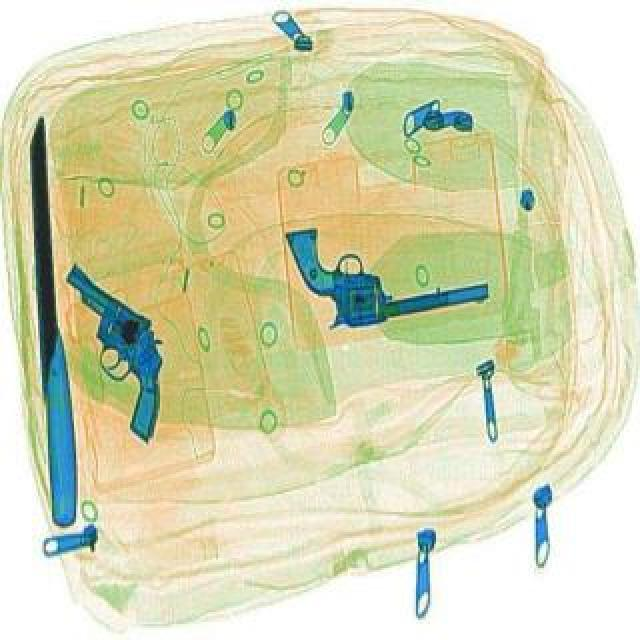gun: (8, 268, 218, 448), (288, 204, 494, 340)
knife: (20, 122, 84, 532)
